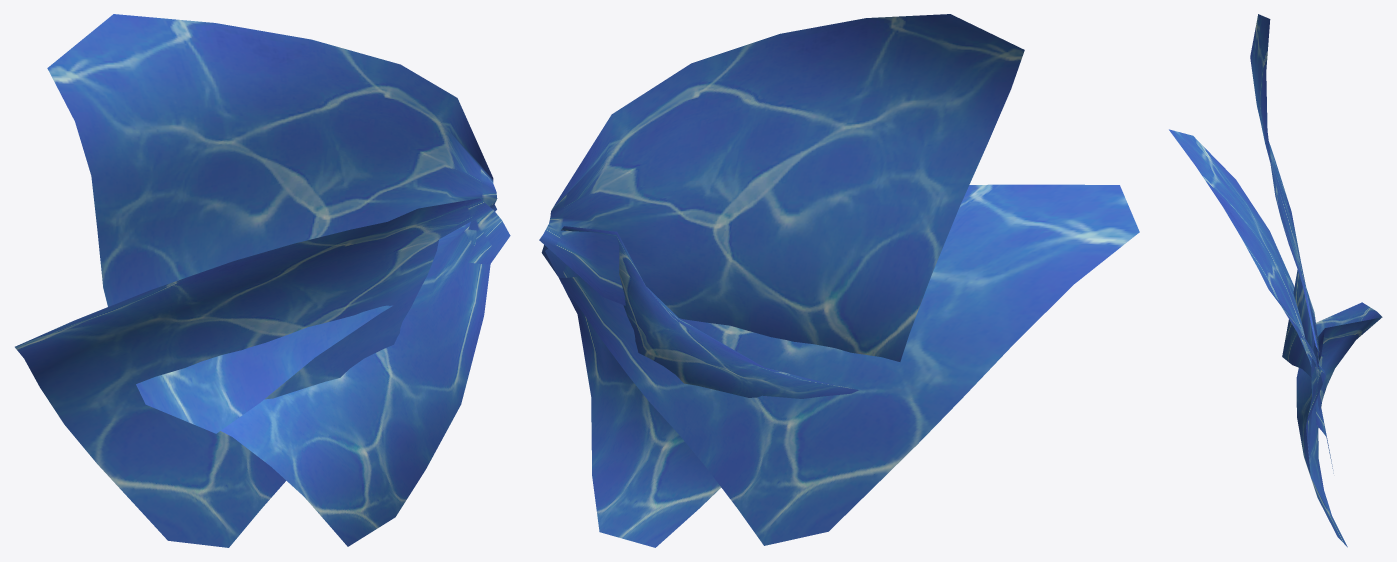
The model's file is meiyong4_3_jx.FBX.
The picture shows the model from 3 angles, left to right: view 1: azimuth 30°, elevation 25°; view 2: azimuth 150°, elevation 25°; view 3: azimuth 270°, elevation 25°; orthographic projection. The views are drawn at different scales.
Parts seen in each view (by area): view 1: DrawCall_046; view 2: DrawCall_046; view 3: DrawCall_046.
Boxes of the visible parts, x1=… form: DrawCall_046: x1=15, y1=14, x2=510, y2=547; DrawCall_046: x1=539, y1=14, x2=1139, y2=547; DrawCall_046: x1=1169, y1=14, x2=1382, y2=547.
Bounding box in the file's own units: 72.74 × 75.59 × 34.51.
Materials: 1 (1 with a texture image).
